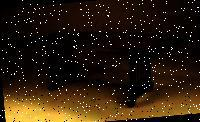Mesa: (10, 21, 194, 119)
